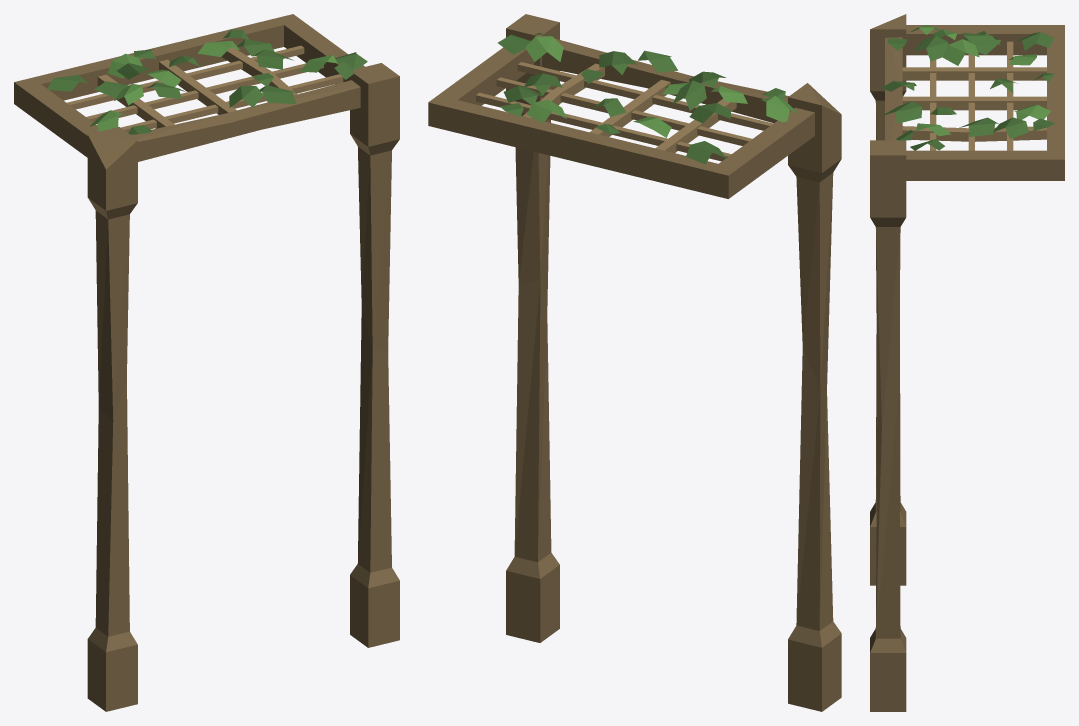
The model's file is SM_Bld_Cuba_Sunshade_02.glb.
3 views of the same model, side by side, from view 1: azimuth 30°, elevation 25°; view 2: azimuth 150°, elevation 25°; view 3: azimuth 270°, elevation 25° (orthographic). The views are drawn at different scales.
Parts seen in each view (by area): view 1: SM_Bld_Cuba_Sunshade_02_part00; view 2: SM_Bld_Cuba_Sunshade_02_part00; view 3: SM_Bld_Cuba_Sunshade_02_part00.
Part boxes in pixels (box(x1,y1,x2,y2)): SM_Bld_Cuba_Sunshade_02_part00: box(14, 14, 399, 711); SM_Bld_Cuba_Sunshade_02_part00: box(428, 14, 841, 711); SM_Bld_Cuba_Sunshade_02_part00: box(870, 14, 1064, 711).
Bounding box in the file's own units: 1.89 × 3.6 × 1.1.
Materials: 1 (1 with a texture image).
